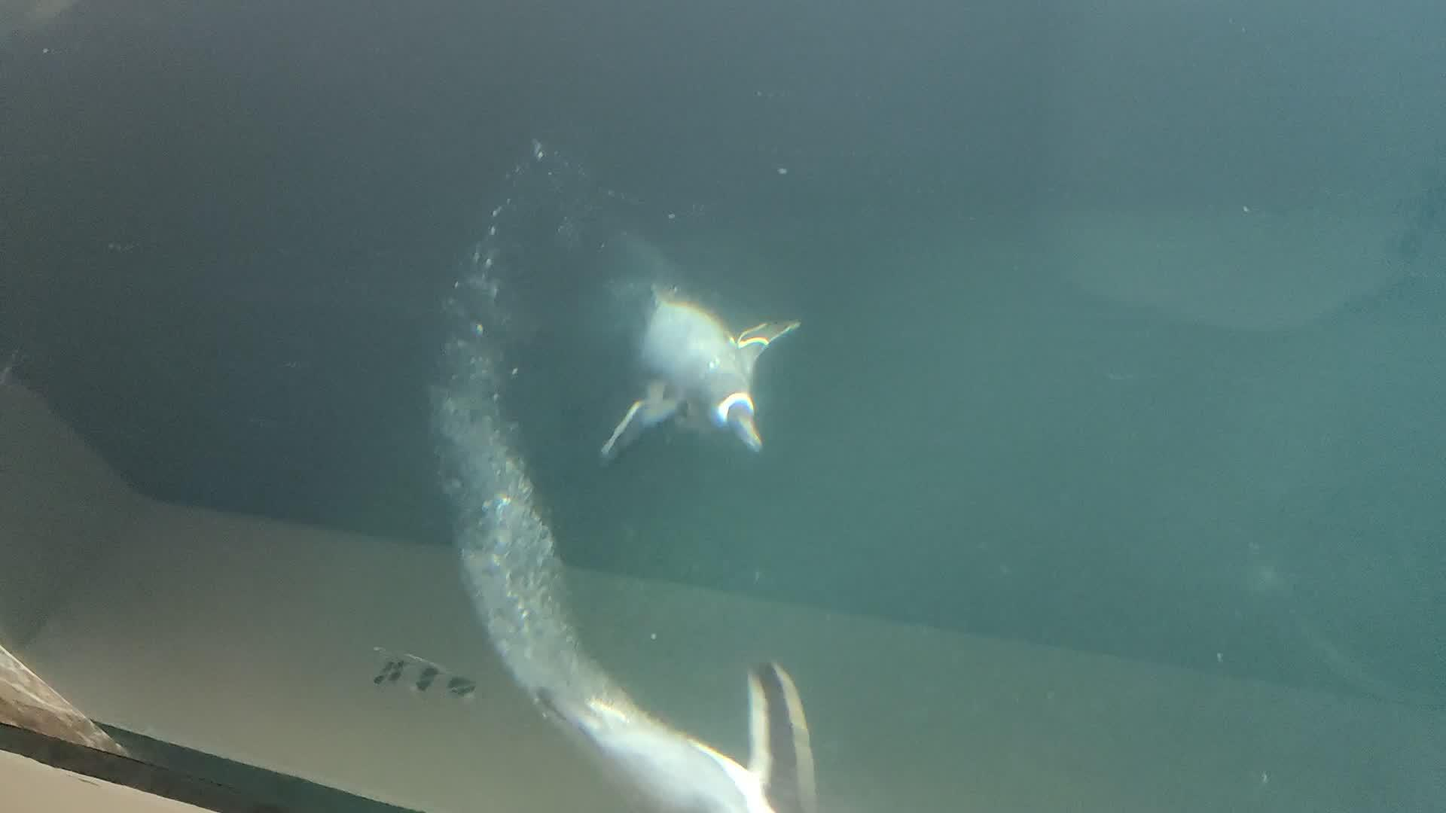apple: (598, 284, 800, 470)
